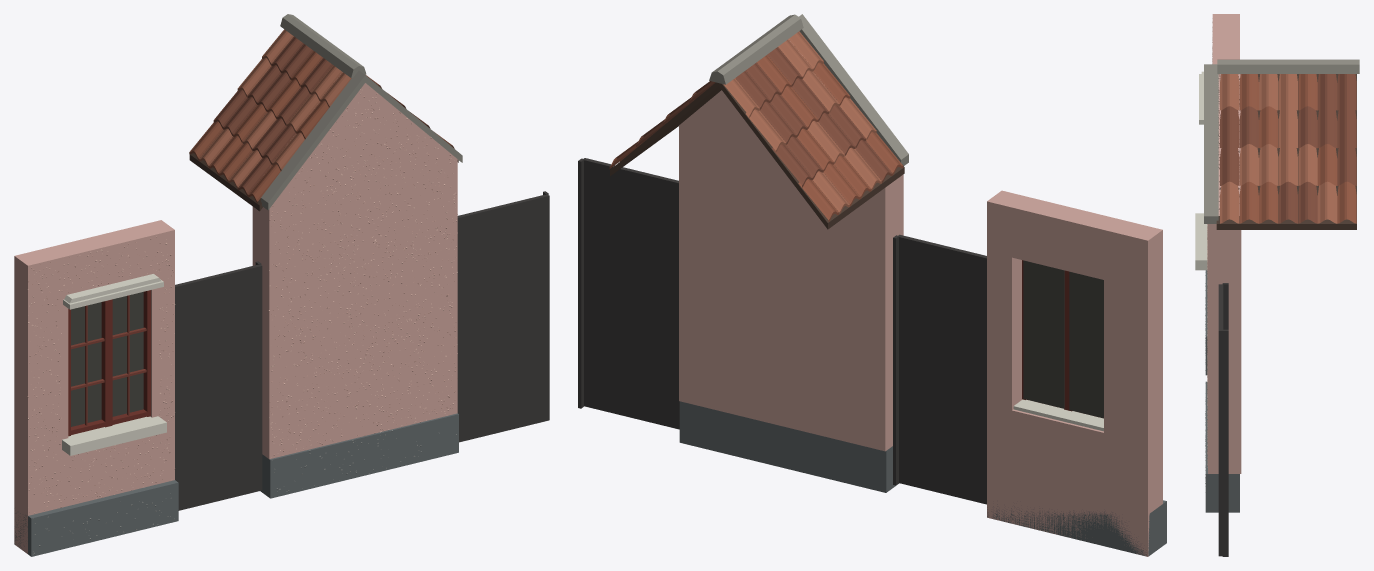
File: jingan-jiaozhou-125-court-gable-raw.glb
3 renders of one model, left to right at view 1: azimuth 30°, elevation 25°; view 2: azimuth 150°, elevation 25°; view 3: azimuth 270°, elevation 25°, orthographic. The views are drawn at different scales.
Parts seen in each view (by area): view 1: 胶州路125弄住宅院侧小山墙、红瓦和六格木窗; view 2: 胶州路125弄住宅院侧小山墙、红瓦和六格木窗; view 3: 胶州路125弄住宅院侧小山墙、红瓦和六格木窗.
Part boxes in pixels (bbox=[...]): 胶州路125弄住宅院侧小山墙、红瓦和六格木窗: bbox=[14, 14, 549, 556]; 胶州路125弄住宅院侧小山墙、红瓦和六格木窗: bbox=[578, 14, 1166, 556]; 胶州路125弄住宅院侧小山墙、红瓦和六格木窗: bbox=[1195, 14, 1359, 556].
Bounding box in the file's own units: 4.58 × 3.37 × 1.23.
